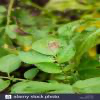Potato leaf late blight: (30, 36, 63, 58)
